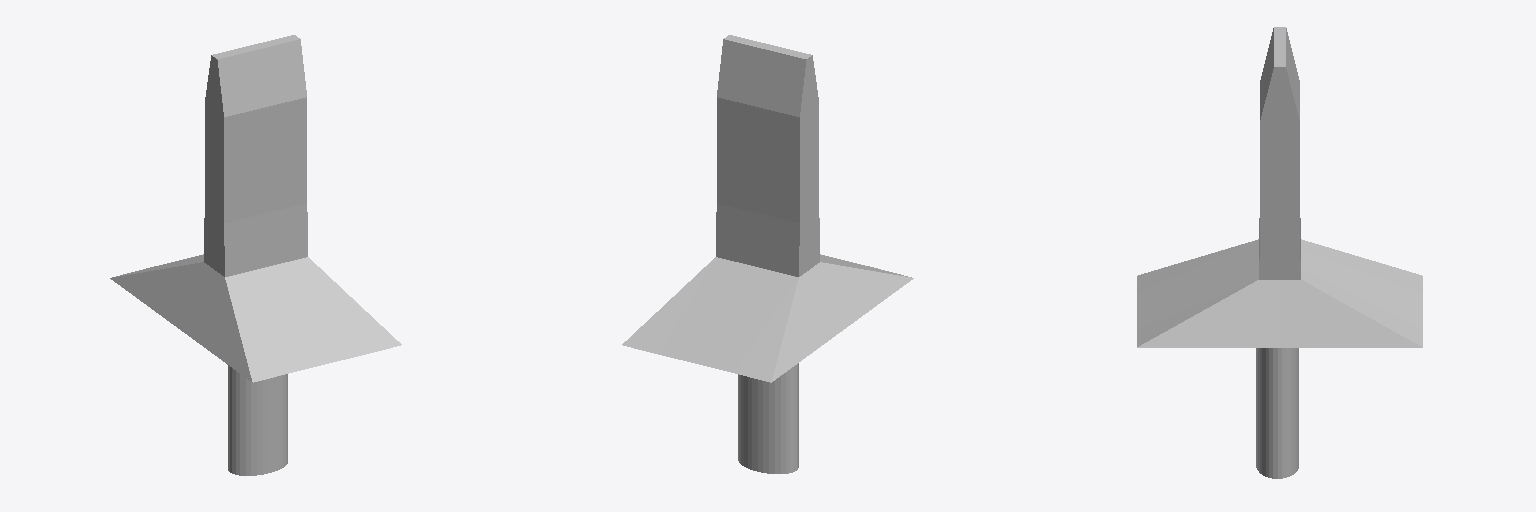
File: Wepon.obj
3 renders of one model, left to right at view 1: azimuth 30°, elevation 25°; view 2: azimuth 150°, elevation 25°; view 3: azimuth 270°, elevation 25°, orthographic.
Visible parts, largest first — view 1: 立方体.001; view 2: 立方体.001; view 3: 立方体.001.
Boxes of the visible parts, box(x1,y1,x2,y2) form: 立方体.001: box(110, 35, 401, 475); 立方体.001: box(622, 35, 913, 473); 立方体.001: box(1137, 27, 1422, 478).
Bounding box in the file's own units: 1.57 × 4.19 × 2.6.